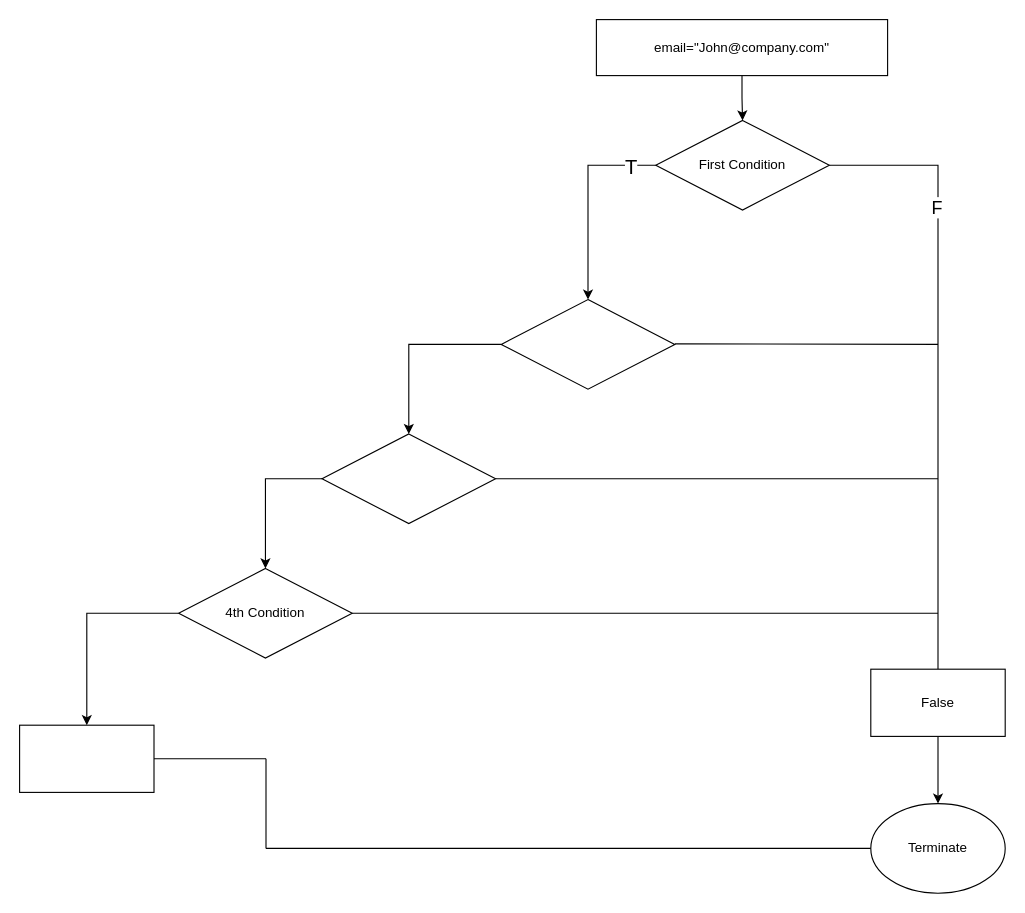
The diagram is 1025 pixels wide and 913 high, and some of its shapes have lost their labels. The centre of each missing label's shape, as x and y in pixels:
"2nd Condition" goes at pixel 587 343.
"3rd Condition" goes at pixel 408 478.
"True" goes at pixel 86 758.
